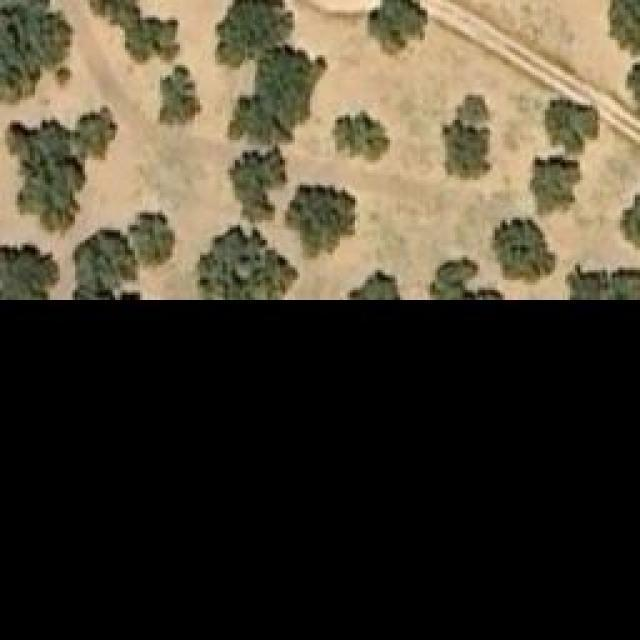Tree: (73, 208, 176, 298), (228, 48, 323, 143), (8, 118, 81, 233), (0, 0, 75, 102), (198, 222, 291, 300), (89, 0, 182, 62), (283, 185, 358, 260), (443, 95, 498, 180), (493, 217, 558, 285), (212, 0, 282, 62), (227, 148, 285, 221), (0, 240, 60, 303), (528, 155, 581, 215), (332, 110, 390, 163), (430, 258, 505, 298), (158, 65, 203, 128), (545, 100, 598, 153), (370, 0, 428, 48), (567, 262, 640, 297), (75, 105, 118, 158), (602, 0, 640, 50), (348, 270, 403, 298), (620, 193, 640, 248)
